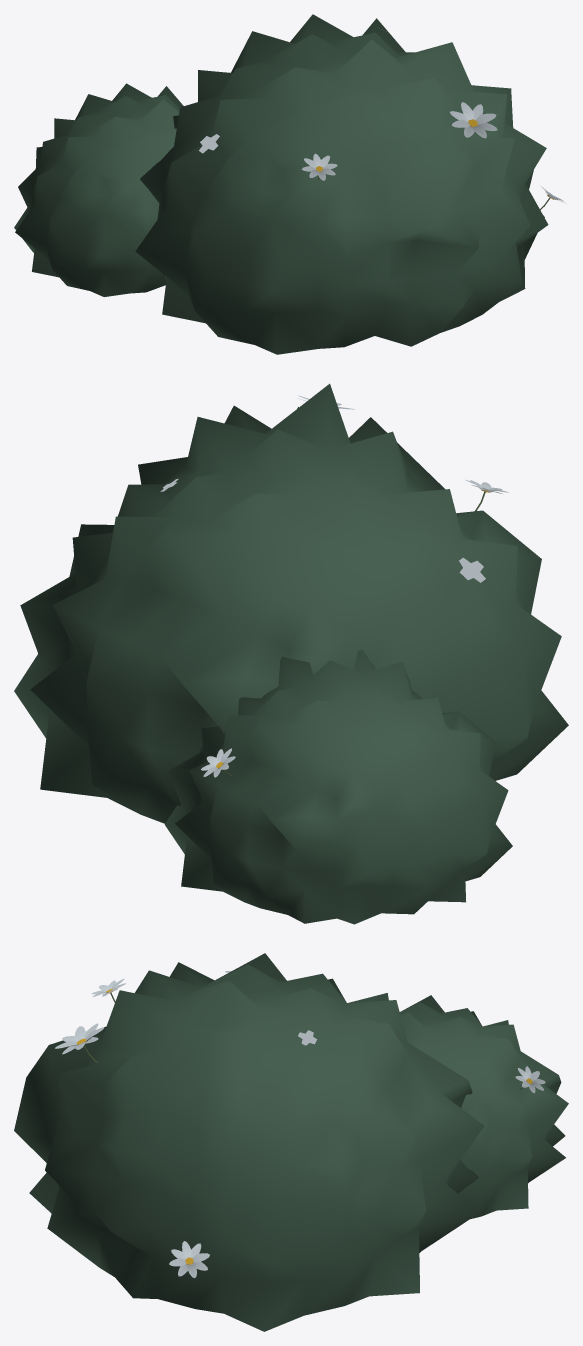
The model's file is P_Bush_08_LD.fbx.
3 renders of one model, top to bottom at view 1: azimuth 30°, elevation 25°; view 2: azimuth 150°, elevation 25°; view 3: azimuth 270°, elevation 25°, orthographic. The views are drawn at different scales.
Visible parts, largest first — view 1: P_bush_08; view 2: P_bush_08; view 3: P_bush_08.
Part boxes in pixels (x1=…): P_bush_08: x1=14, y1=14, x2=565, y2=354; P_bush_08: x1=14, y1=383, x2=568, y2=924; P_bush_08: x1=14, y1=953, x2=568, y2=1331.
Bounding box in the file's own units: 209 × 111 × 215.
